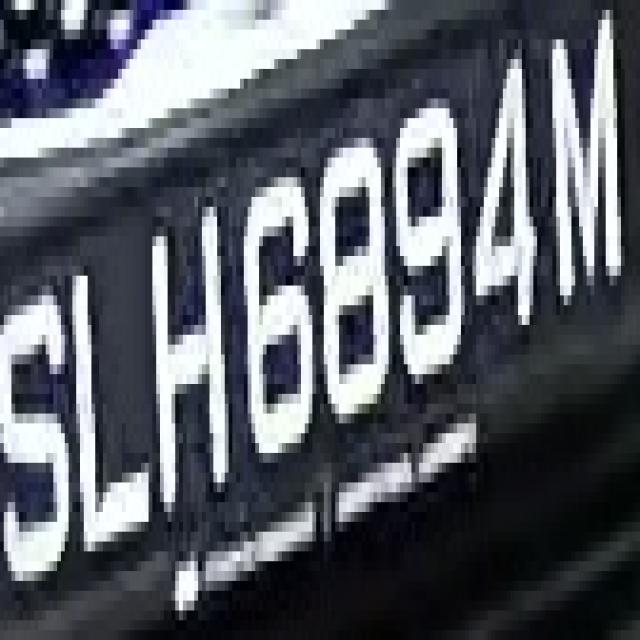4: (450, 29, 544, 354)
6: (228, 168, 312, 492)
8: (305, 99, 396, 443)
9: (385, 89, 480, 404)
H: (152, 206, 232, 532)
L: (61, 217, 156, 571)
M: (534, 10, 636, 315)
